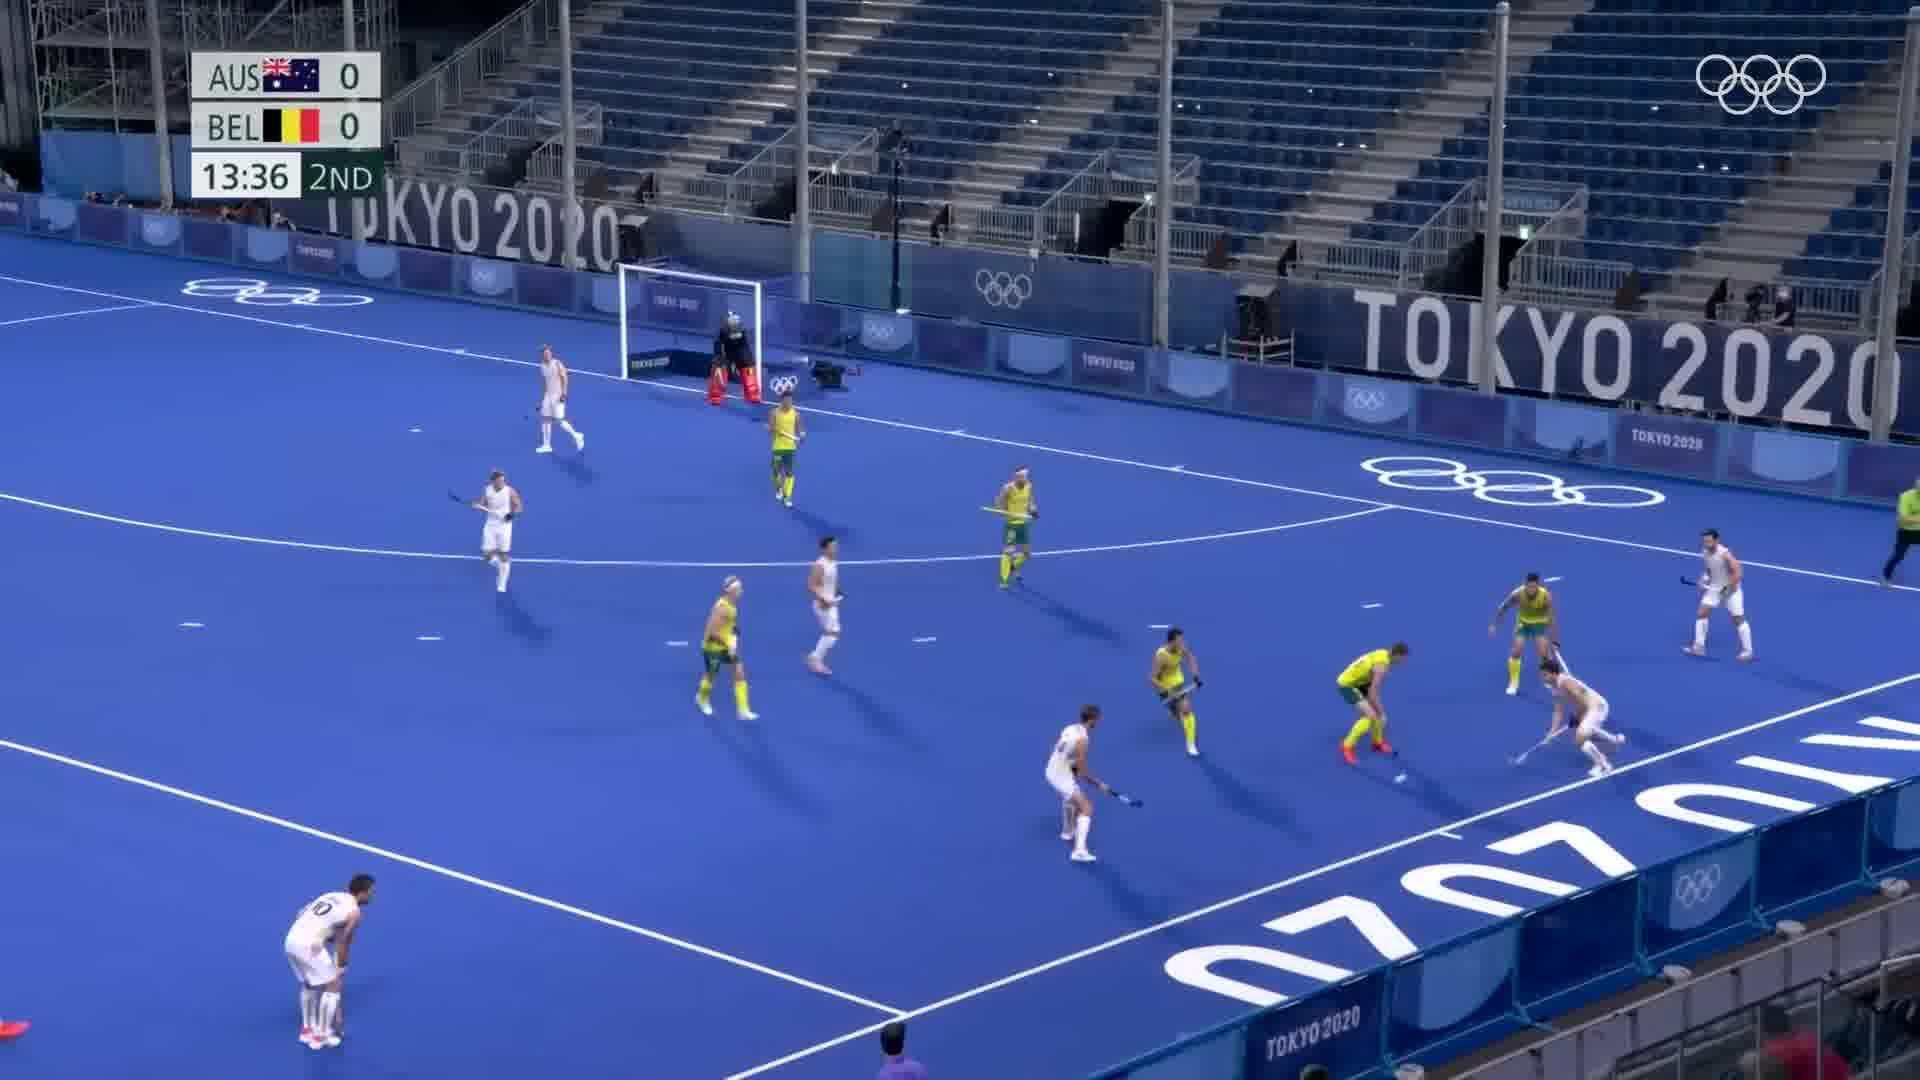ball: (1389, 767, 1418, 787)
